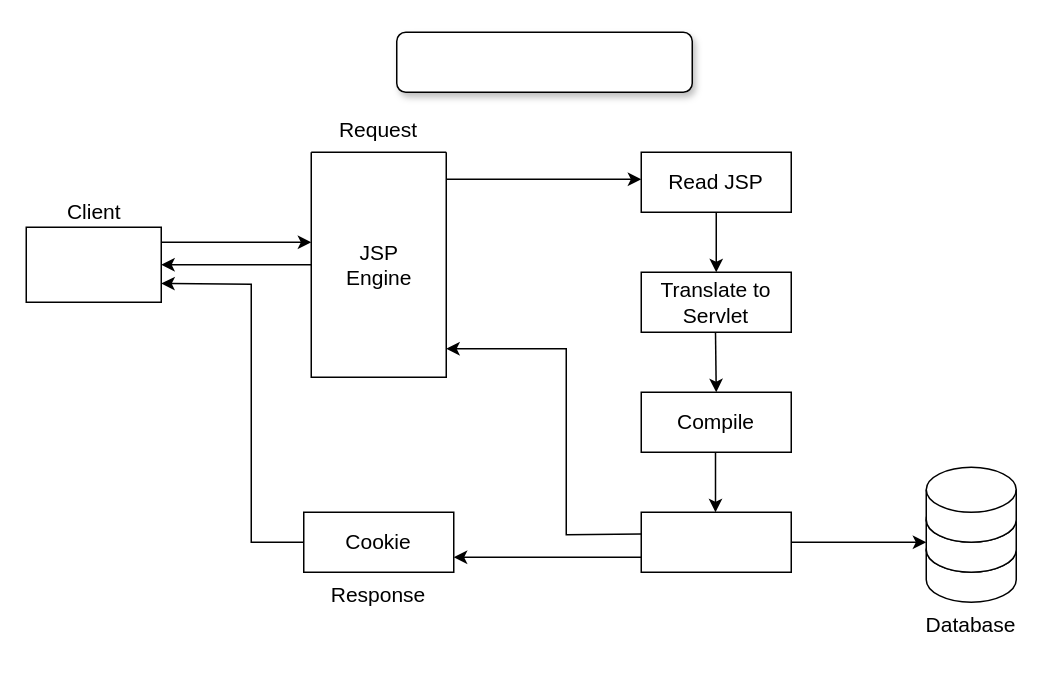
Some shapes in this 1043 by 674 pixel diagram are drawn without their labels. Here are the shapes that lost their labels. From the top down, the centre of each, then its label:
(545,64): Block Diagram - MedOne
(93,264): Web Browser
(715,541): Execute
